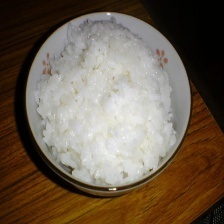rice: (33, 19, 177, 187)
